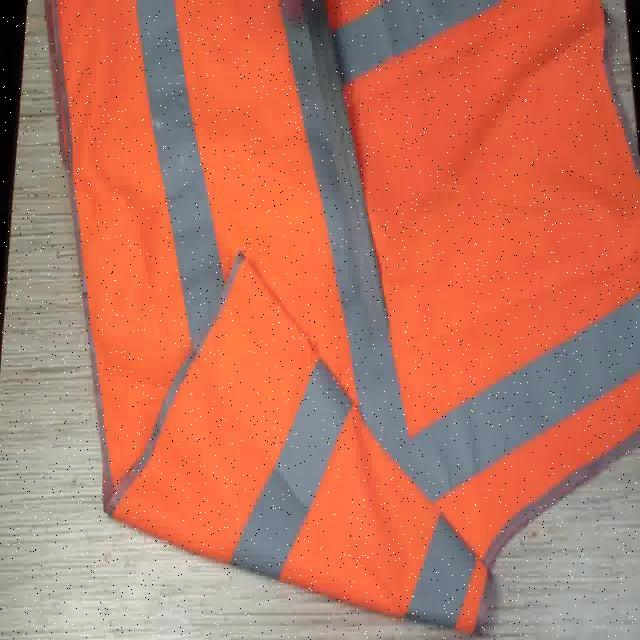Vest: (345, 5, 637, 616)
